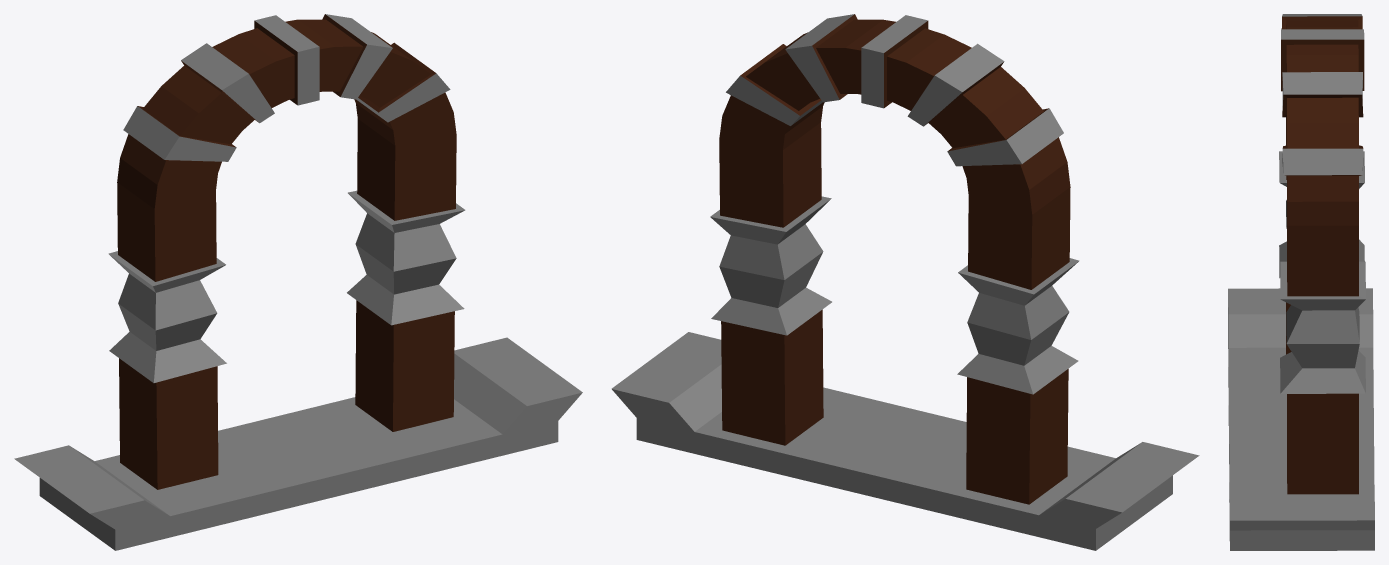
File: Portal.fbx
The picture shows the model from 3 angles, left to right: view 1: azimuth 30°, elevation 25°; view 2: azimuth 150°, elevation 25°; view 3: azimuth 270°, elevation 25°; orthographic projection. The views are drawn at different scales.
Parts seen in each view (by area): view 1: Portal; view 2: Portal; view 3: Portal.
Boxes of the visible parts, left/top/right/bottom form: Portal: left=14, top=14, right=582, bottom=550; Portal: left=611, top=14, right=1199, bottom=550; Portal: left=1228, top=14, right=1374, bottom=550.
Size of the model in its own units: 430 by 355 by 115.
